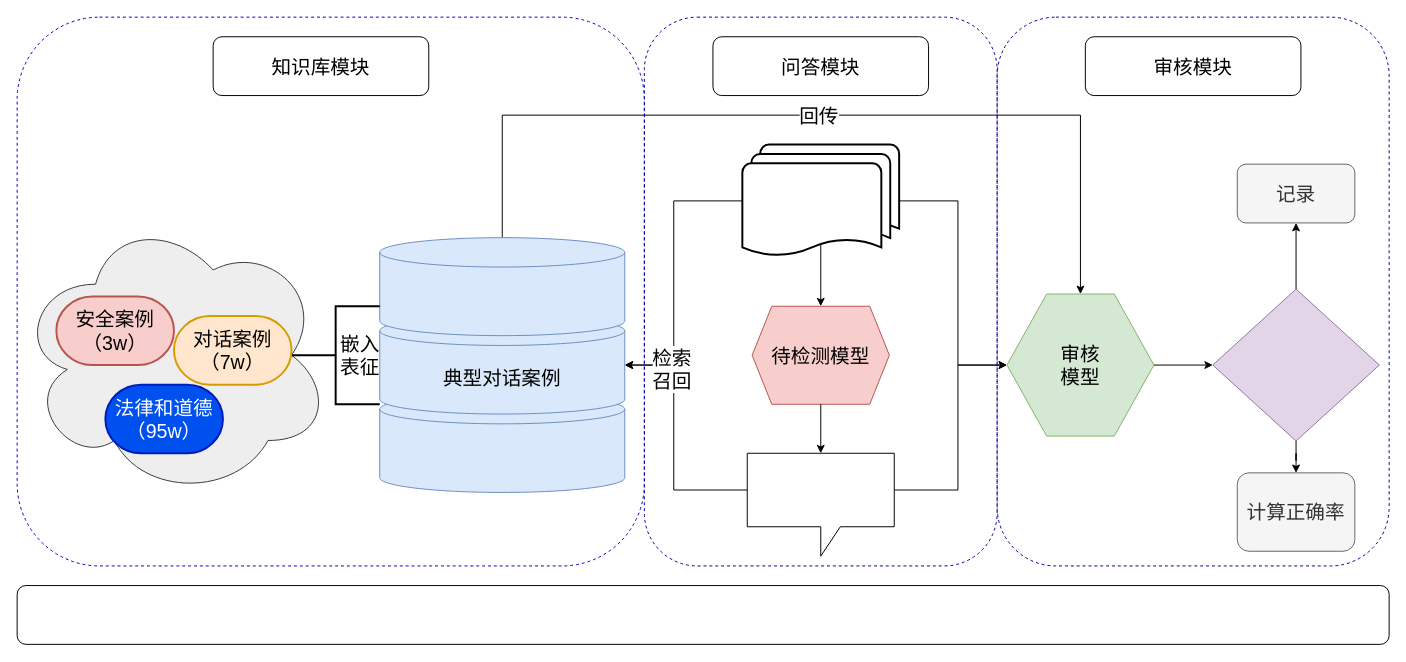
The diagram is 1406 pixels wide and 662 high, and some of its shapes have lost their labels. Each missing label, with the centre of its shape:
"dify" belongs at point 702,614.
"典型安全案例" belongs at point 502,286.
"判别结果" belongs at point 1295,364.
"回答" belongs at point 820,504.
"基础道德与法律" belongs at point 502,442.
"问题" belongs at point 820,200.
